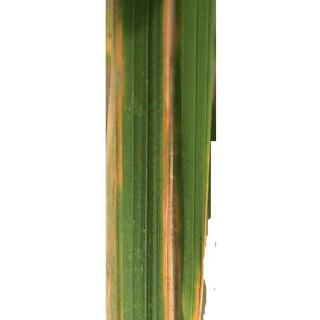Hawar-Daun: (95, 3, 129, 320), (154, 0, 187, 316), (185, 104, 221, 320)
